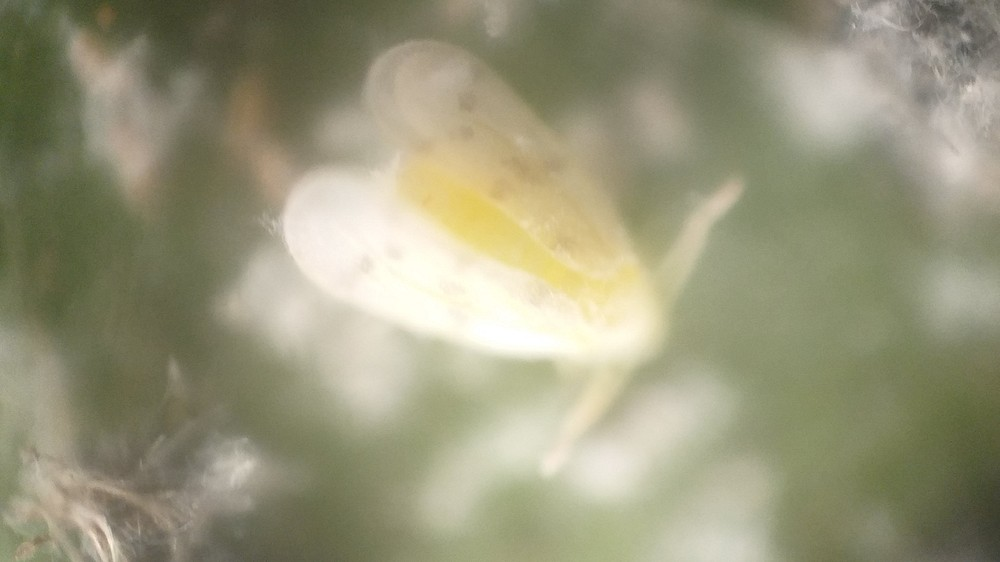Mosca Blanca: (276, 39, 763, 490)
